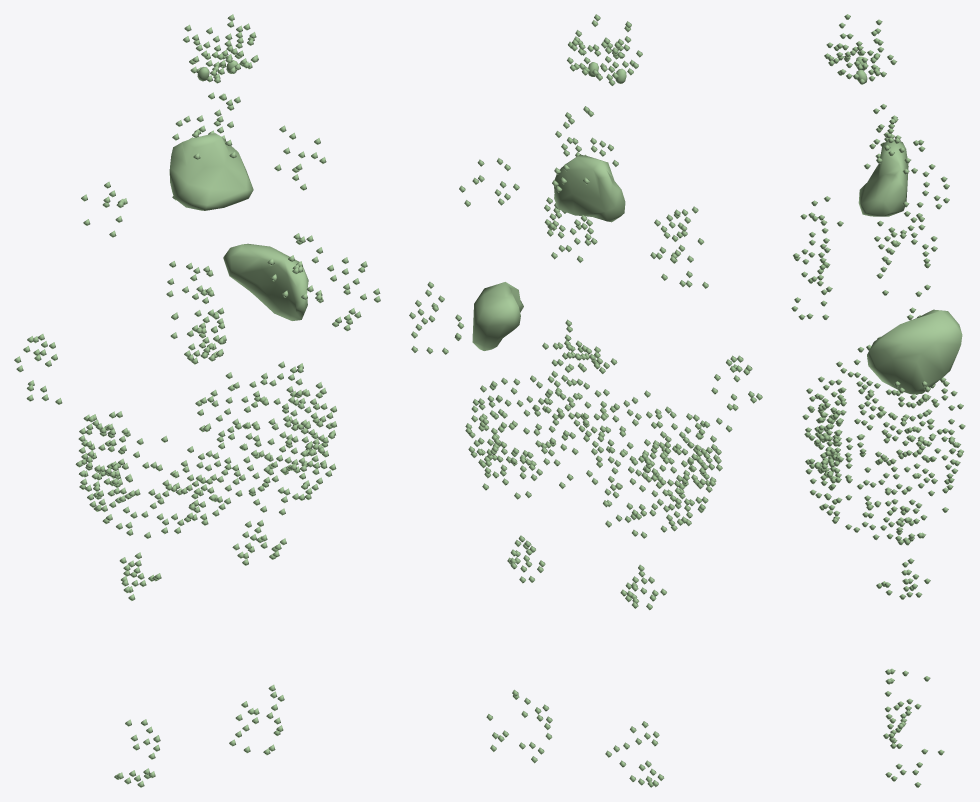
File: pediatric_infant_female.lymphatic.LOD2.glb
3 renders of one model, left to right at view 1: azimuth 30°, elevation 25°; view 2: azimuth 150°, elevation 25°; view 3: azimuth 270°, elevation 25°, orthographic. The views are drawn at different scales.
Parts seen in each view (by area): view 1: PEDIATRIC.INFANT.FEMALE.LYMPHATIC.LYMPHATIC_NODES_TRUNK, PEDIATRIC.INFANT.FEMALE.LYMPHATIC.THYMUS, PEDIATRIC.INFANT.FEMALE.LYMPHATIC.SPLEEN, PEDIATRIC.INFANT.FEMALE.LYMPHATIC.LYMPHATIC_NODES_ET, PEDIATRIC.INFANT.FEMALE.LYMPHATIC.LYMPHATIC_NODES_ARMS, PEDIATRIC.INFANT.FEMALE.LYMPHATIC.LYMPHATIC_NODES_LEGS, PEDIATRIC.INFANT.FEMALE.LYMPHATIC.LYMPHATIC_NODES_THORACIC, PEDIATRIC.INFANT.FEMALE.LYMPHATIC.LYMPHATIC_NODES_HEAD; view 2: PEDIATRIC.INFANT.FEMALE.LYMPHATIC.LYMPHATIC_NODES_TRUNK, PEDIATRIC.INFANT.FEMALE.LYMPHATIC.THYMUS, PEDIATRIC.INFANT.FEMALE.LYMPHATIC.SPLEEN, PEDIATRIC.INFANT.FEMALE.LYMPHATIC.LYMPHATIC_NODES_THORACIC, PEDIATRIC.INFANT.FEMALE.LYMPHATIC.LYMPHATIC_NODES_ET, PEDIATRIC.INFANT.FEMALE.LYMPHATIC.LYMPHATIC_NODES_LEGS, PEDIATRIC.INFANT.FEMALE.LYMPHATIC.LYMPHATIC_NODES_ARMS; view 3: PEDIATRIC.INFANT.FEMALE.LYMPHATIC.LYMPHATIC_NODES_TRUNK, PEDIATRIC.INFANT.FEMALE.LYMPHATIC.SPLEEN, PEDIATRIC.INFANT.FEMALE.LYMPHATIC.THYMUS, PEDIATRIC.INFANT.FEMALE.LYMPHATIC.LYMPHATIC_NODES_ET, PEDIATRIC.INFANT.FEMALE.LYMPHATIC.LYMPHATIC_NODES_LEGS, PEDIATRIC.INFANT.FEMALE.LYMPHATIC.LYMPHATIC_NODES_ARMS, PEDIATRIC.INFANT.FEMALE.LYMPHATIC.LYMPHATIC_NODES_THORACIC, PEDIATRIC.INFANT.FEMALE.LYMPHATIC.LYMPHATIC_NODES_HEAD.
Boxes of the visible parts, bbox=[...] form: PEDIATRIC.INFANT.FEMALE.LYMPHATIC.LYMPHATIC_NODES_TRUNK: bbox=[75, 125, 336, 600]; PEDIATRIC.INFANT.FEMALE.LYMPHATIC.THYMUS: bbox=[169, 133, 253, 210]; PEDIATRIC.INFANT.FEMALE.LYMPHATIC.SPLEEN: bbox=[223, 243, 308, 320]; PEDIATRIC.INFANT.FEMALE.LYMPHATIC.LYMPHATIC_NODES_ET: bbox=[183, 14, 258, 83]; PEDIATRIC.INFANT.FEMALE.LYMPHATIC.LYMPHATIC_NODES_ARMS: bbox=[14, 257, 380, 404]; PEDIATRIC.INFANT.FEMALE.LYMPHATIC.LYMPHATIC_NODES_LEGS: bbox=[114, 684, 284, 787]; PEDIATRIC.INFANT.FEMALE.LYMPHATIC.LYMPHATIC_NODES_THORACIC: bbox=[172, 129, 226, 364]; PEDIATRIC.INFANT.FEMALE.LYMPHATIC.LYMPHATIC_NODES_HEAD: bbox=[175, 92, 240, 159]; PEDIATRIC.INFANT.FEMALE.LYMPHATIC.LYMPHATIC_NODES_TRUNK: bbox=[459, 158, 722, 610]; PEDIATRIC.INFANT.FEMALE.LYMPHATIC.THYMUS: bbox=[554, 154, 625, 222]; PEDIATRIC.INFANT.FEMALE.LYMPHATIC.SPLEEN: bbox=[472, 282, 523, 350]; PEDIATRIC.INFANT.FEMALE.LYMPHATIC.LYMPHATIC_NODES_THORACIC: bbox=[542, 164, 617, 373]; PEDIATRIC.INFANT.FEMALE.LYMPHATIC.LYMPHATIC_NODES_ET: bbox=[567, 14, 642, 85]; PEDIATRIC.INFANT.FEMALE.LYMPHATIC.LYMPHATIC_NODES_LEGS: bbox=[486, 689, 664, 787]; PEDIATRIC.INFANT.FEMALE.LYMPHATIC.LYMPHATIC_NODES_ARMS: bbox=[409, 281, 762, 432]; PEDIATRIC.INFANT.FEMALE.LYMPHATIC.LYMPHATIC_NODES_TRUNK: bbox=[791, 127, 965, 599]; PEDIATRIC.INFANT.FEMALE.LYMPHATIC.SPLEEN: bbox=[867, 309, 962, 394]; PEDIATRIC.INFANT.FEMALE.LYMPHATIC.THYMUS: bbox=[858, 141, 908, 216]; PEDIATRIC.INFANT.FEMALE.LYMPHATIC.LYMPHATIC_NODES_ET: bbox=[824, 14, 896, 84]; PEDIATRIC.INFANT.FEMALE.LYMPHATIC.LYMPHATIC_NODES_LEGS: bbox=[883, 668, 944, 787]; PEDIATRIC.INFANT.FEMALE.LYMPHATIC.LYMPHATIC_NODES_ARMS: bbox=[876, 229, 933, 446]; PEDIATRIC.INFANT.FEMALE.LYMPHATIC.LYMPHATIC_NODES_THORACIC: bbox=[866, 146, 949, 350]; PEDIATRIC.INFANT.FEMALE.LYMPHATIC.LYMPHATIC_NODES_HEAD: bbox=[864, 104, 905, 169].
Size of the model in its own units: 0.253 by 0.5144 by 0.1112.
